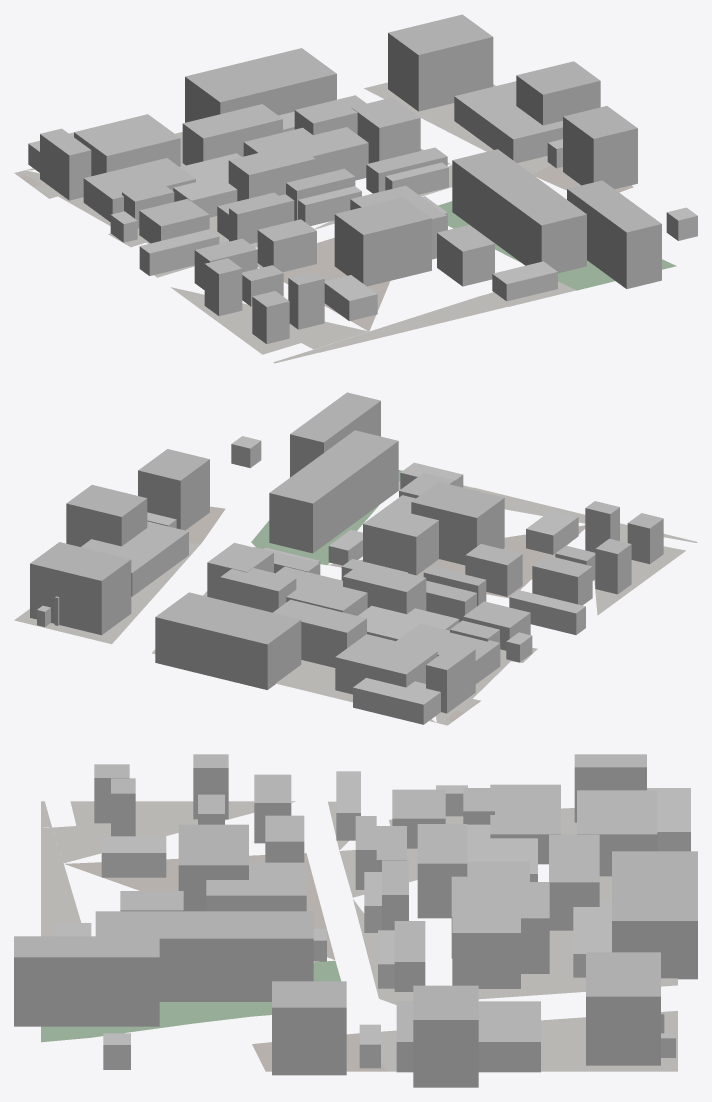
File: 108_103_mid.glb
The picture shows the model from 3 angles, top to bottom: view 1: azimuth 30°, elevation 25°; view 2: azimuth 150°, elevation 25°; view 3: azimuth 270°, elevation 25°; orthographic projection. The views are drawn at different scales.
Bounding box in the file's own units: 535 × 60.38 × 537.
